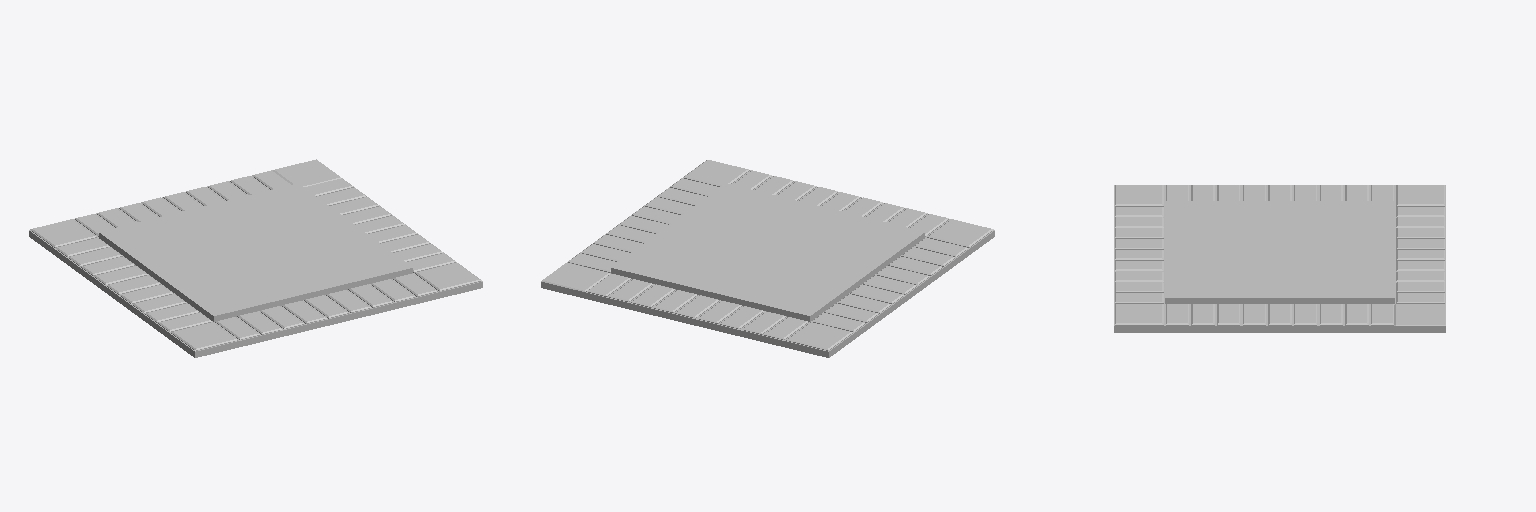
Rendered from board.obj.
3 views of the same model, side by side, from view 1: azimuth 30°, elevation 25°; view 2: azimuth 150°, elevation 25°; view 3: azimuth 270°, elevation 25° (orthographic).
Parts seen in each view (by area): view 1: Cube; view 2: Cube; view 3: Cube.
Boxes of the visible parts, box(x1,y1,x2,y2) form: Cube: box(29, 159, 482, 357); Cube: box(541, 160, 994, 357); Cube: box(1114, 185, 1445, 332).
Bounding box in the file's own units: 40 × 1.65 × 40.